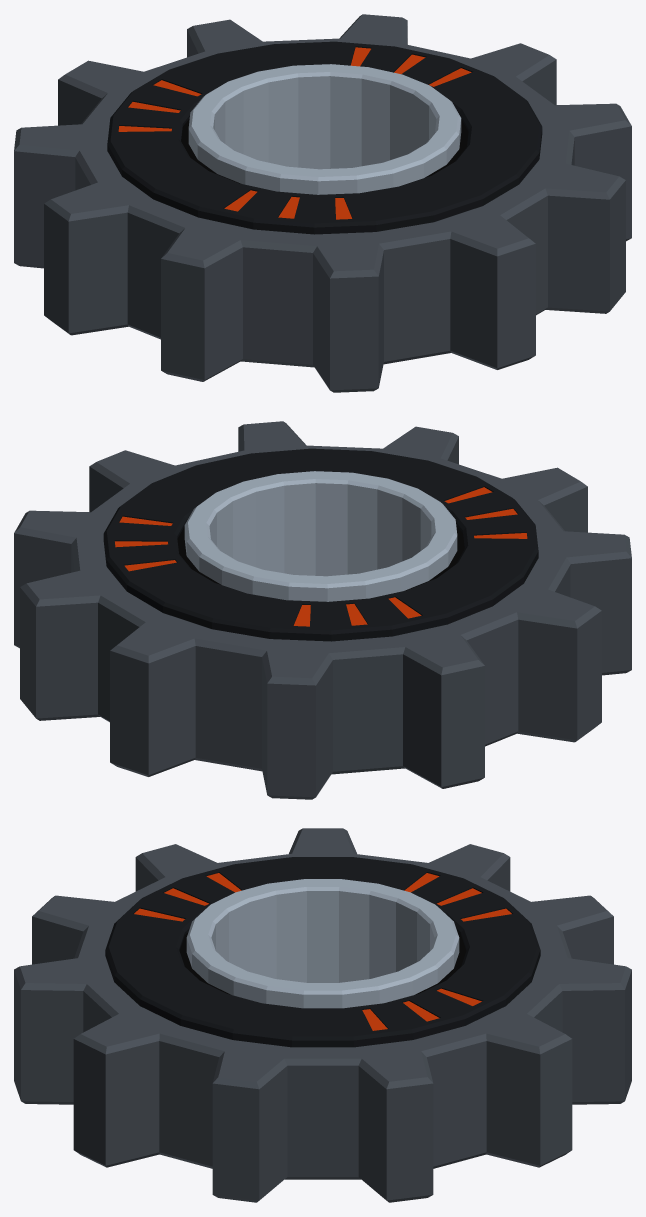
The model's file is SM_Gear.obj.
The picture shows the model from 3 angles, top to bottom: view 1: azimuth 30°, elevation 25°; view 2: azimuth 150°, elevation 25°; view 3: azimuth 270°, elevation 25°; orthographic projection.
Visible parts, largest first — view 1: SM_Gear; view 2: SM_Gear; view 3: SM_Gear.
Boxes of the visible parts, bbox=[...] form: SM_Gear: bbox=[14, 14, 631, 392]; SM_Gear: bbox=[14, 421, 631, 799]; SM_Gear: bbox=[14, 828, 631, 1202].
Bounding box in the file's own units: 0.2677 × 0.0792 × 0.2704.
